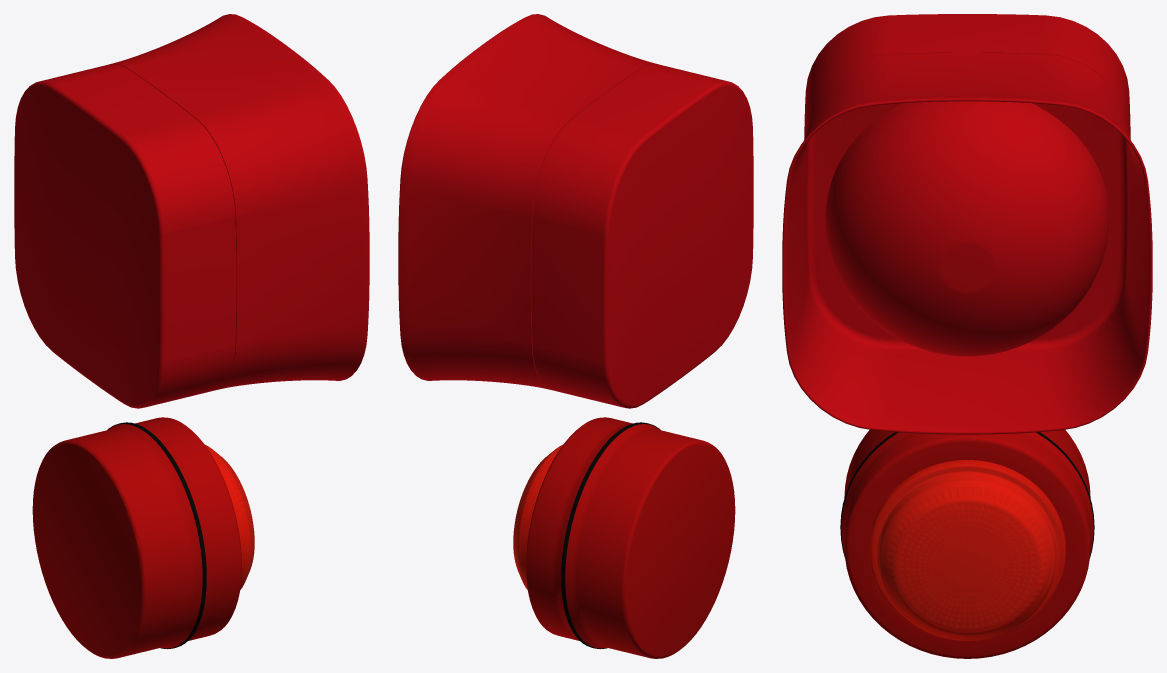
Rendered from fire_alarm_horn_and_light.glb.
3 views of the same model, side by side, from view 1: azimuth 30°, elevation 25°; view 2: azimuth 150°, elevation 25°; view 3: azimuth 270°, elevation 25° (orthographic). The views are drawn at different scales.
Parts seen in each view (by area): view 1: Cube.001_0, Circle.002_2, Circle.001_1; view 2: Cube.001_0, Circle.002_2, Circle.001_1; view 3: Cube.001_0, Circle.001_1, Circle.002_2.
Boxes of the visible parts, x1=… form: Cube.001_0: x1=14, y1=14, x2=369, y2=408; Circle.002_2: x1=32, y1=417, x2=241, y2=658; Circle.001_1: x1=205, y1=445, x2=254, y2=589; Cube.001_0: x1=398, y1=14, x2=753, y2=408; Circle.002_2: x1=526, y1=417, x2=735, y2=658; Circle.001_1: x1=513, y1=445, x2=562, y2=589; Cube.001_0: x1=782, y1=14, x2=1152, y2=434; Circle.001_1: x1=869, y1=460, x2=1065, y2=640; Circle.002_2: x1=840, y1=429, x2=1094, y2=658.
Bounding box in the file's own units: 0.0805 × 0.216 × 0.1175.
